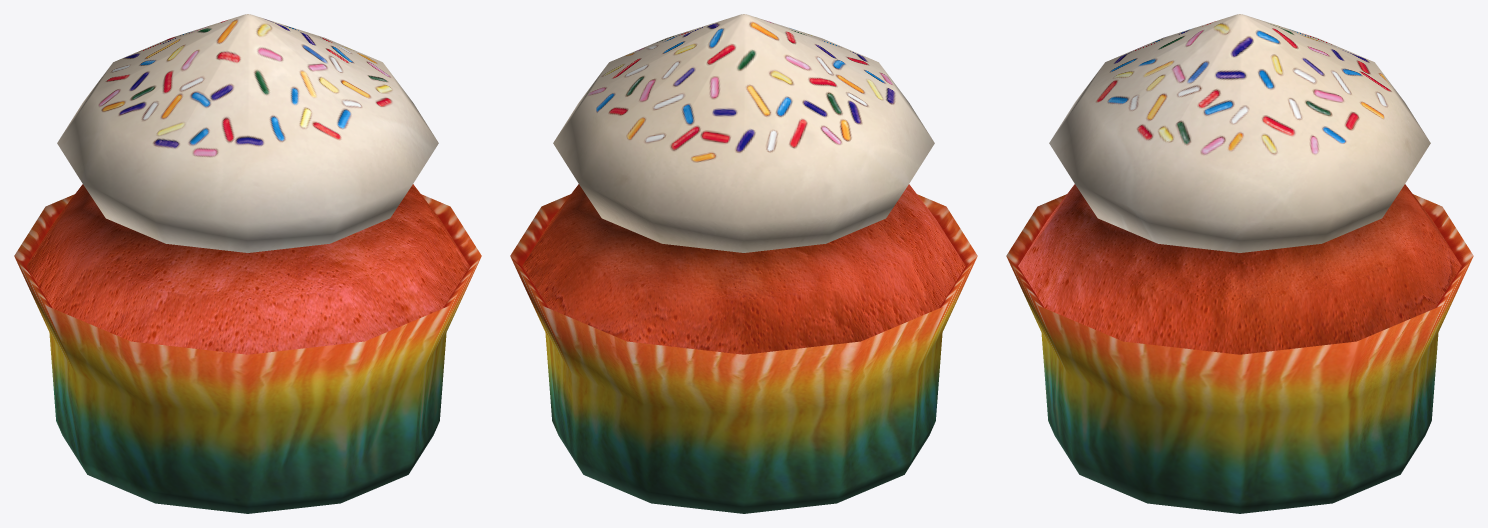
File: DHP_MOD_Rainbow_cupcake.fbx
3 renders of one model, left to right at view 1: azimuth 30°, elevation 25°; view 2: azimuth 150°, elevation 25°; view 3: azimuth 270°, elevation 25°, orthographic.
Parts seen in each view (by area): view 1: DHP_MOD_Rainbow_cupcake; view 2: DHP_MOD_Rainbow_cupcake; view 3: DHP_MOD_Rainbow_cupcake.
Boxes of the visible parts, bbox=[...] form: DHP_MOD_Rainbow_cupcake: bbox=[14, 14, 481, 513]; DHP_MOD_Rainbow_cupcake: bbox=[510, 14, 977, 513]; DHP_MOD_Rainbow_cupcake: bbox=[1006, 14, 1473, 513].
Size of the model in its own units: 0.3329 by 0.3307 by 0.3328.
